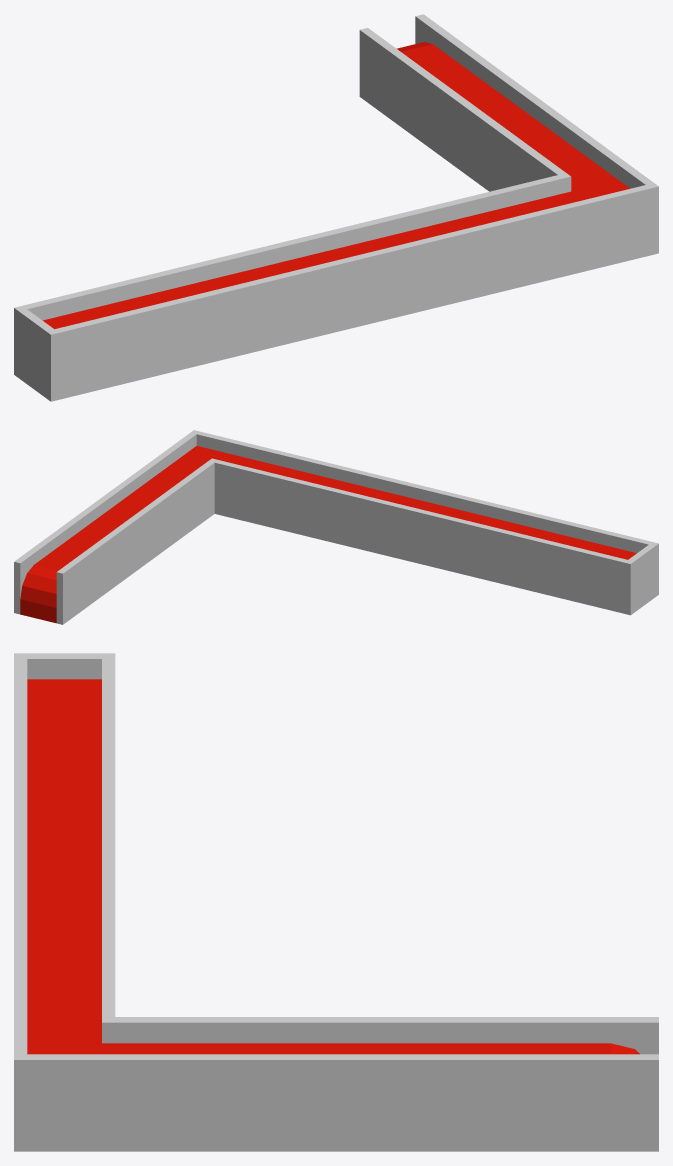
The model's file is SM_PipelineCorner.fbx.
3 renders of one model, top to bottom at view 1: azimuth 30°, elevation 25°; view 2: azimuth 150°, elevation 25°; view 3: azimuth 270°, elevation 25°, orthographic. The views are drawn at different scales.
Parts seen in each view (by area): view 1: Cube; view 2: Cube; view 3: Cube.
Part boxes in pixels (box(x1,y1,x2,y2)): Cube: box(14, 14, 658, 401); Cube: box(14, 430, 658, 624); Cube: box(14, 653, 658, 1151).
Bounding box in the file's own units: 1900 × 200 × 1274.
